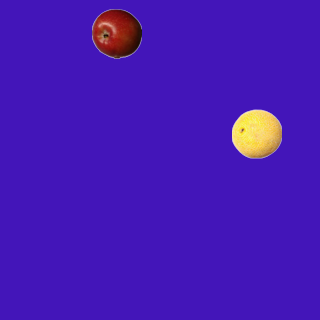Apple Braeburn: (91, 8, 141, 58)
Cantaloupe 1: (231, 108, 281, 158)
